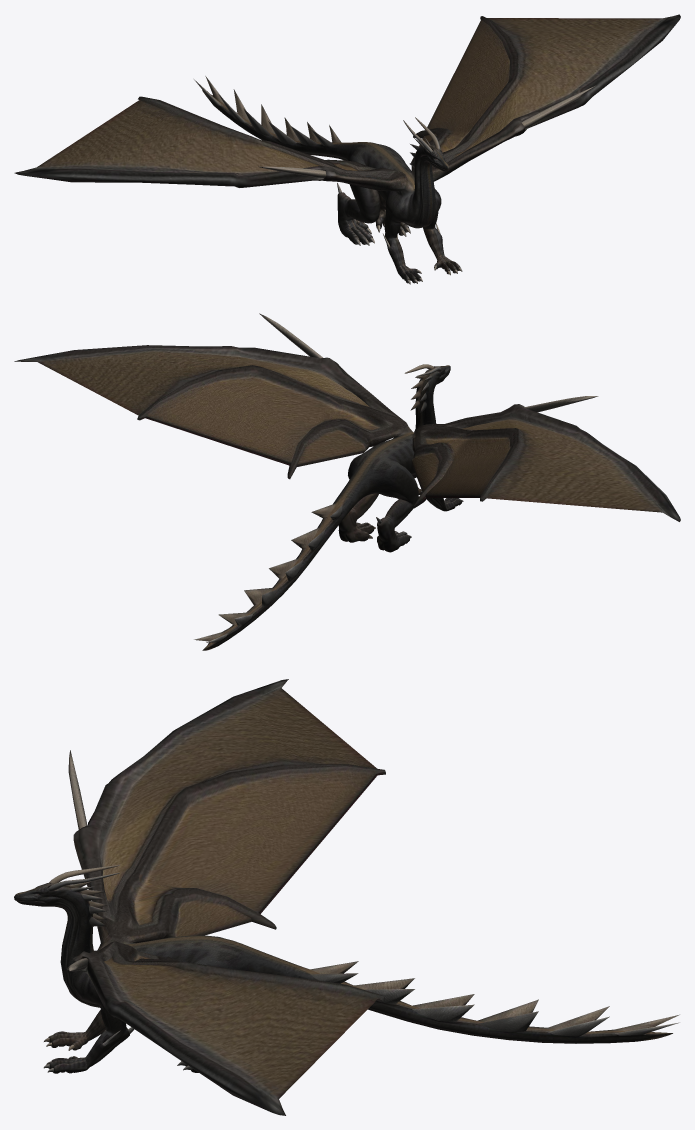
File: dragon.obj
3 renders of one model, top to bottom at view 1: azimuth 30°, elevation 25°; view 2: azimuth 150°, elevation 25°; view 3: azimuth 270°, elevation 25°, orthographic. The views are drawn at different scales.
Visible parts, largest first — view 1: Dragon_2.5_ply; view 2: Dragon_2.5_ply; view 3: Dragon_2.5_ply.
Boxes of the visible parts, x1,y1,x2,y2 form: Dragon_2.5_ply: (14, 14, 680, 284); Dragon_2.5_ply: (14, 313, 680, 650); Dragon_2.5_ply: (14, 679, 679, 1115).
Bounding box in the file's own units: 43.73 × 9.31 × 28.46.
